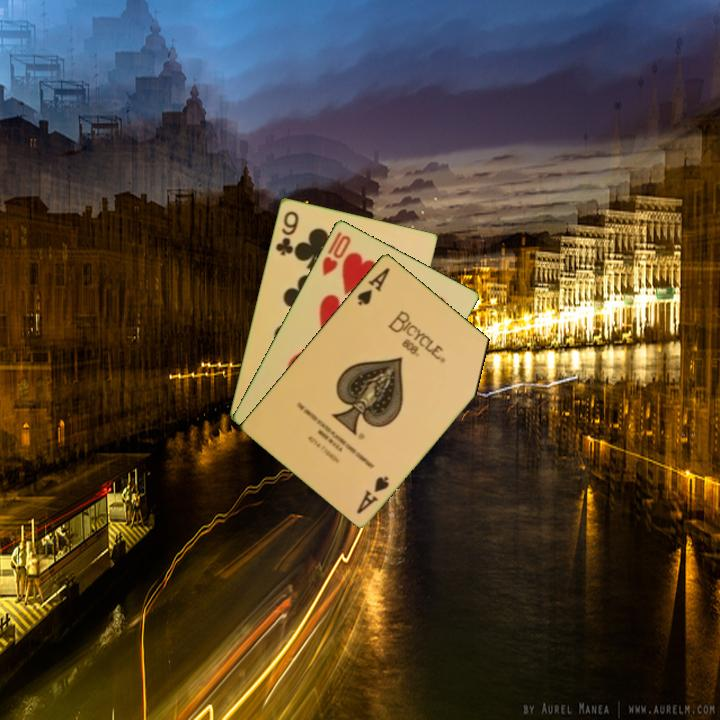10h: (318, 227, 354, 279)
9c: (272, 207, 301, 258)
As: (353, 264, 393, 308), (353, 472, 392, 516)
